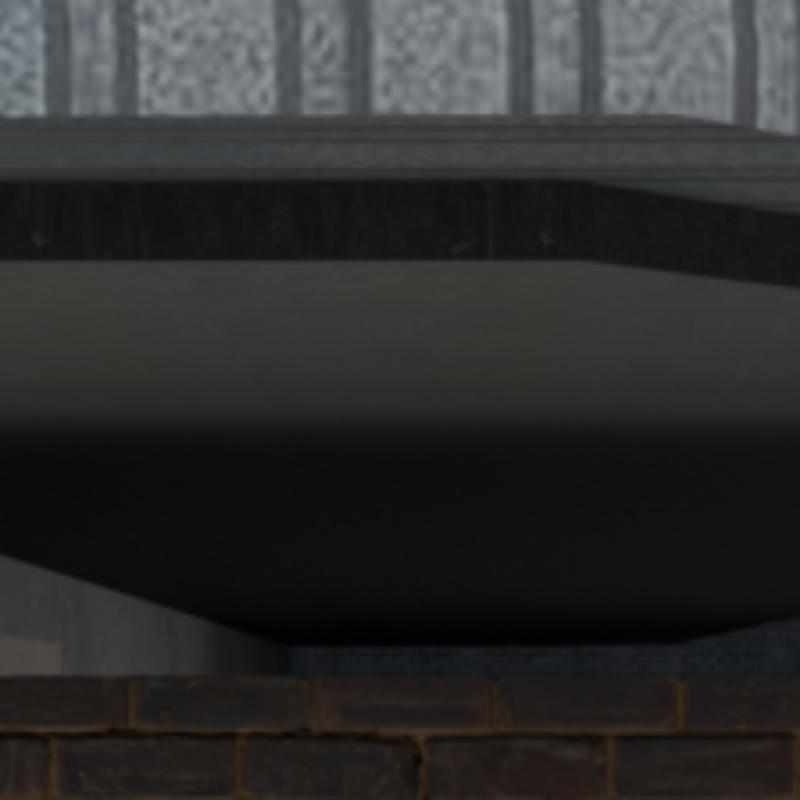crack: (0, 725, 416, 748)
